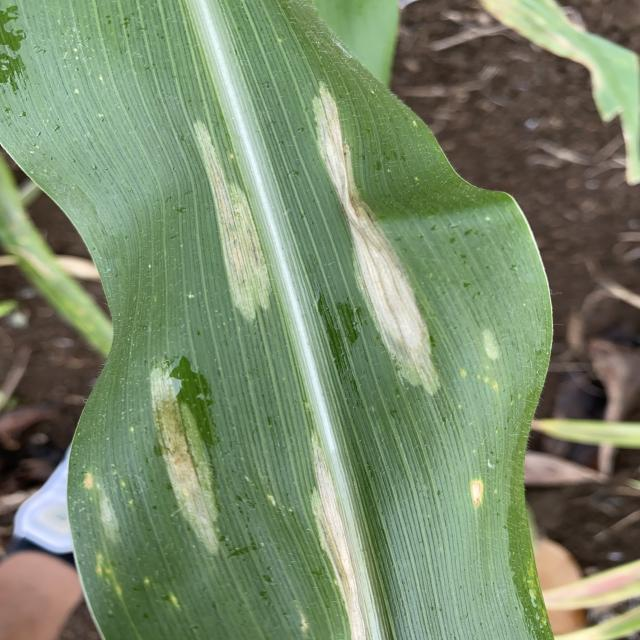Corn_Leaf_Blight: (62, 0, 553, 640)
